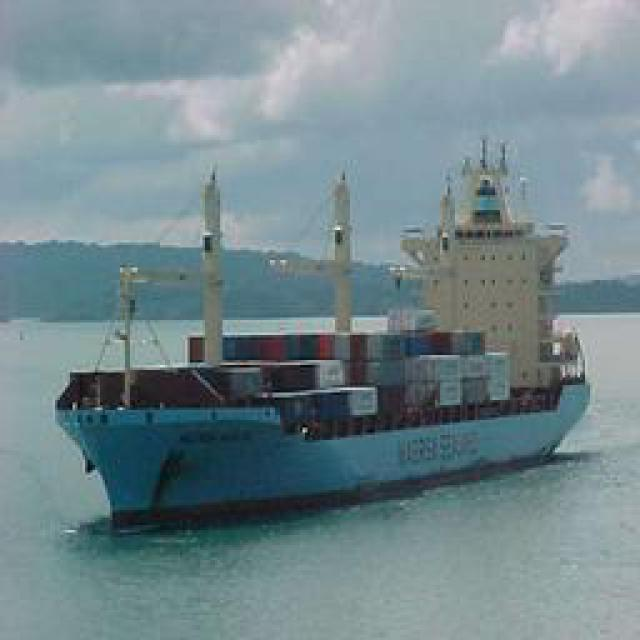Ship: (57, 119, 585, 539)
